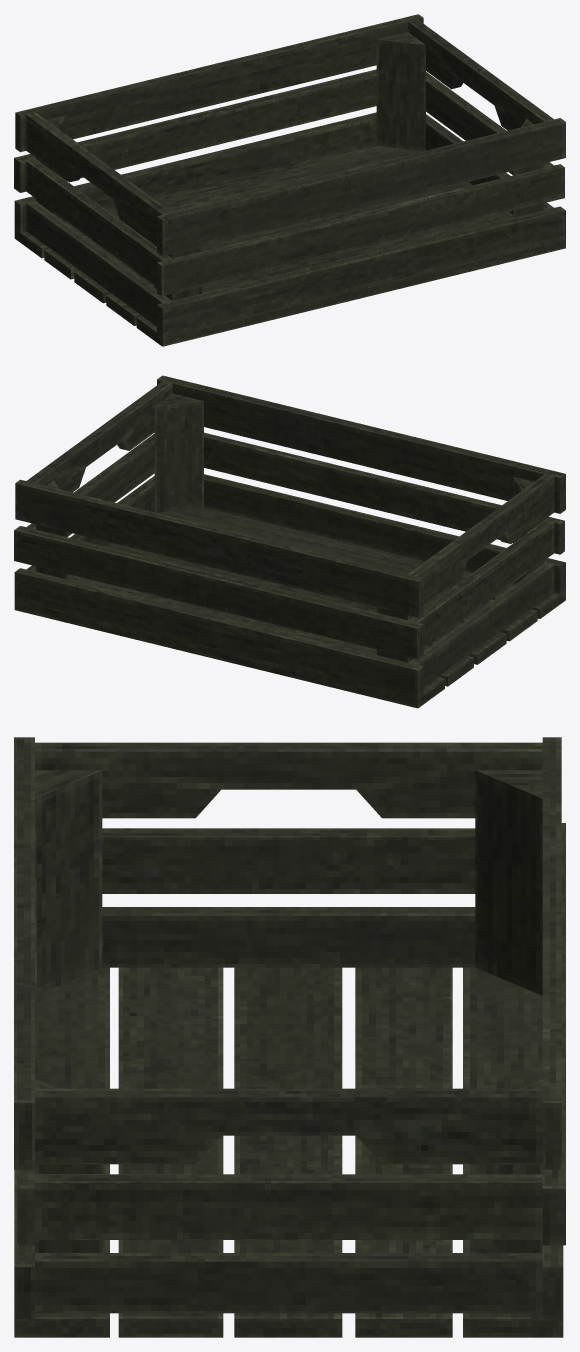
The model's file is supply_crate_1_3_empty.glb.
3 views of the same model, one above another, from view 1: azimuth 30°, elevation 25°; view 2: azimuth 150°, elevation 25°; view 3: azimuth 270°, elevation 25° (orthographic). The views are drawn at different scales.
Visible parts, largest first — view 1: supply_crate_1_3_empty; view 2: supply_crate_1_3_empty; view 3: supply_crate_1_3_empty.
Part boxes in pixels (<box>): supply_crate_1_3_empty: <box>14,14,565,346</box>; supply_crate_1_3_empty: <box>14,375,565,708</box>; supply_crate_1_3_empty: <box>14,737,565,1337</box>.
Size of the model in its own units: 0.668 by 0.2 by 0.4262.
1 material, 1 textured.
